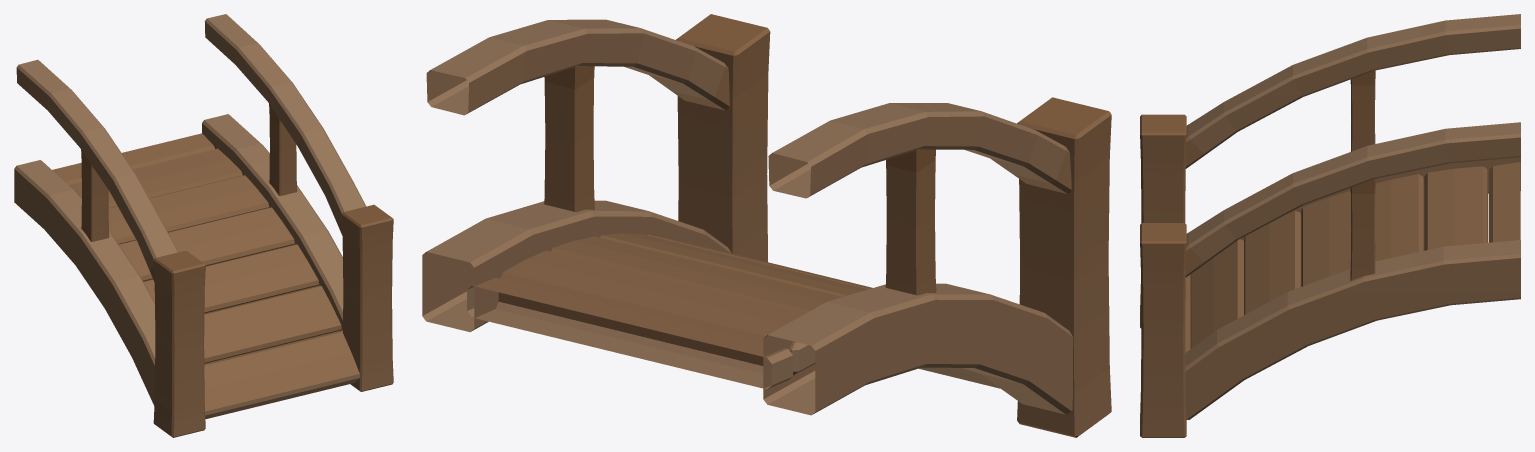
The model's file is obj_BridgePoint.fbx.
The picture shows the model from 3 angles, left to right: view 1: azimuth 30°, elevation 25°; view 2: azimuth 150°, elevation 25°; view 3: azimuth 270°, elevation 25°; orthographic projection. The views are drawn at different scales.
Parts seen in each view (by area): view 1: obj_BridgePoint; view 2: obj_BridgePoint; view 3: obj_BridgePoint.
Part boxes in pixels (box(x1,y1,x2,y2)): obj_BridgePoint: box(14, 14, 393, 437); obj_BridgePoint: box(422, 14, 1111, 437); obj_BridgePoint: box(1140, 14, 1520, 437).
Bounding box in the file's own units: 592 × 649 × 744.
